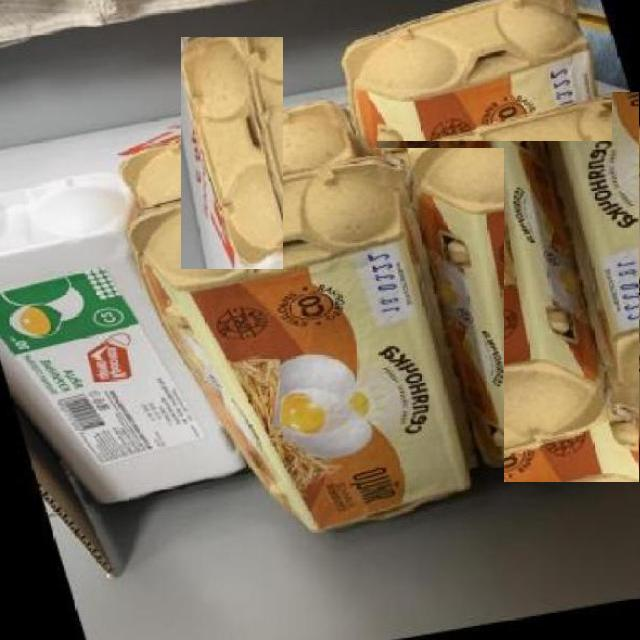Egg: (129, 148, 504, 545), (376, 92, 640, 482), (0, 159, 242, 517), (339, 0, 612, 141), (181, 36, 283, 269)
